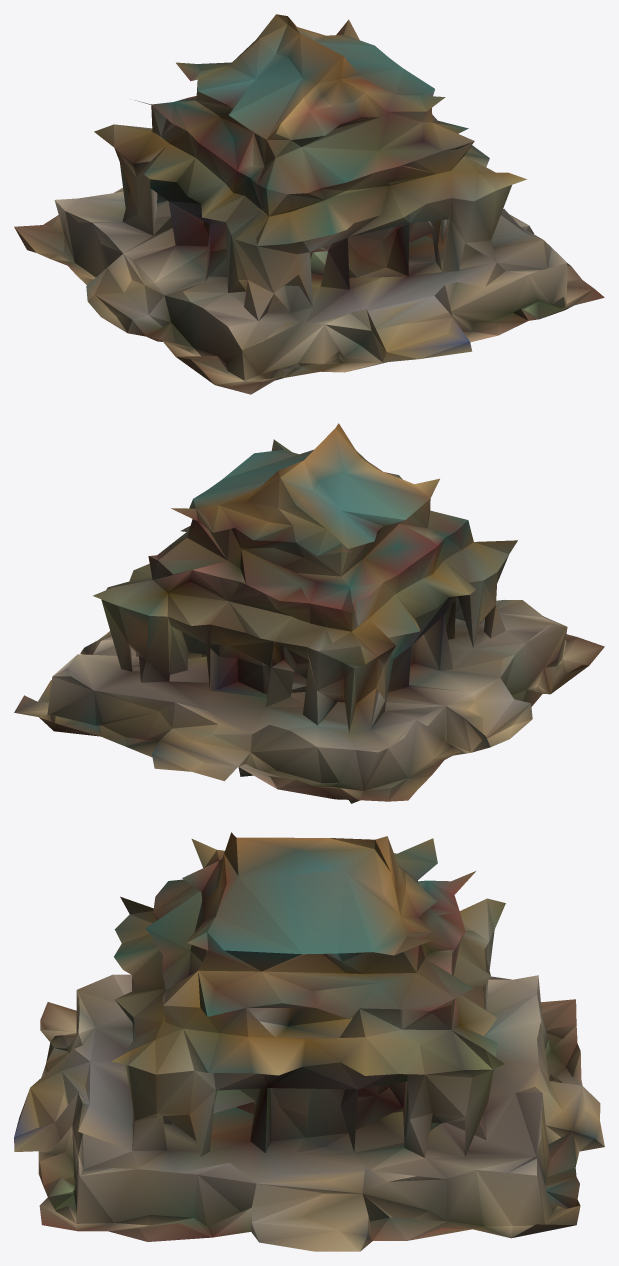
The model's file is bq_thunder_hall.vc2.glb.
The picture shows the model from 3 angles, top to bottom: view 1: azimuth 30°, elevation 25°; view 2: azimuth 150°, elevation 25°; view 3: azimuth 270°, elevation 25°; orthographic projection. The views are drawn at different scales.
Parts seen in each view (by area): view 1: bq_thunder_hall; view 2: bq_thunder_hall; view 3: bq_thunder_hall.
Part boxes in pixels (x1=…): bq_thunder_hall: x1=14, y1=14, x2=604, y2=394; bq_thunder_hall: x1=14, y1=423, x2=604, y2=803; bq_thunder_hall: x1=14, y1=832, x2=604, y2=1251.
Size of the model in its own units: 1.86 by 1.04 by 1.88.
